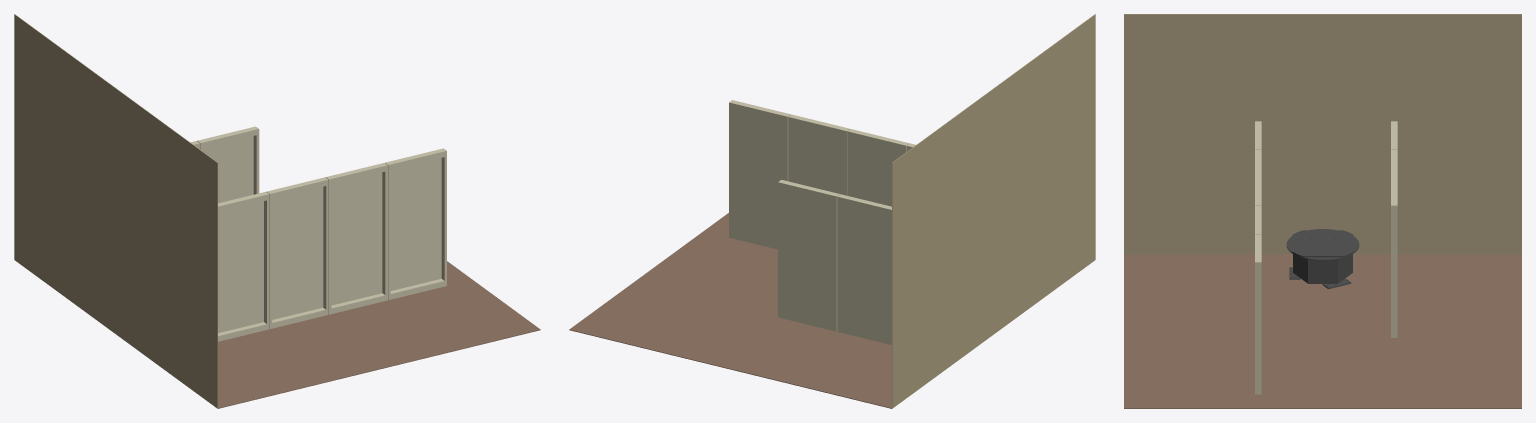
File: grinding_workcell.dae
The picture shows the model from 3 angles, left to right: view 1: azimuth 30°, elevation 25°; view 2: azimuth 150°, elevation 25°; view 3: azimuth 270°, elevation 25°; orthographic projection. The views are drawn at different scales.
Parts seen in each view (by area): view 1: wall, ground, panel_001, panel_007, panel_004, panel_006, panel_005; view 2: wall, ground, panel_005, panel_000, panel_004, panel_001, panel_007; view 3: wall, ground, support_001, support_002, panel_005, panel_004.
Boxes of the visible parts, bbox=[...] form: wall: bbox=[14, 14, 217, 408]; ground: bbox=[218, 261, 540, 408]; panel_001: bbox=[325, 163, 387, 314]; panel_007: bbox=[266, 177, 328, 328]; panel_004: bbox=[385, 148, 446, 300]; panel_006: bbox=[218, 191, 269, 341]; panel_005: bbox=[197, 126, 259, 203]; wall: bbox=[892, 14, 1095, 408]; ground: bbox=[569, 213, 891, 408]; panel_005: bbox=[778, 180, 839, 331]; panel_000: bbox=[837, 194, 891, 344]; panel_004: bbox=[729, 100, 790, 249]; panel_001: bbox=[788, 114, 849, 195]; panel_007: bbox=[847, 129, 909, 206]; wall: bbox=[1124, 14, 1521, 254]; ground: bbox=[1124, 254, 1521, 408]; support_001: bbox=[1286, 229, 1359, 289]; support_002: bbox=[1292, 230, 1353, 257]; panel_005: bbox=[1391, 177, 1397, 337]; panel_004: bbox=[1255, 234, 1261, 394].
Size of the model in its own units: 5.51 by 6 by 4.01.
